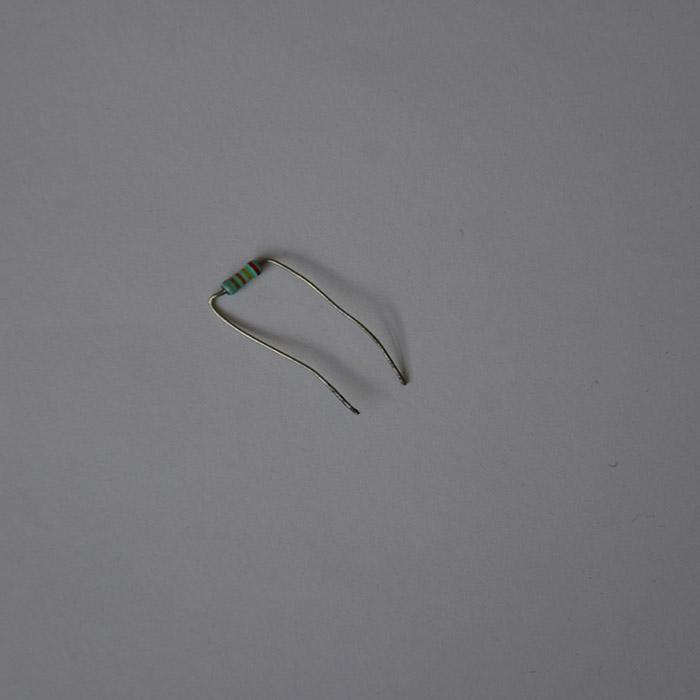resistor: (217, 260, 262, 296)
